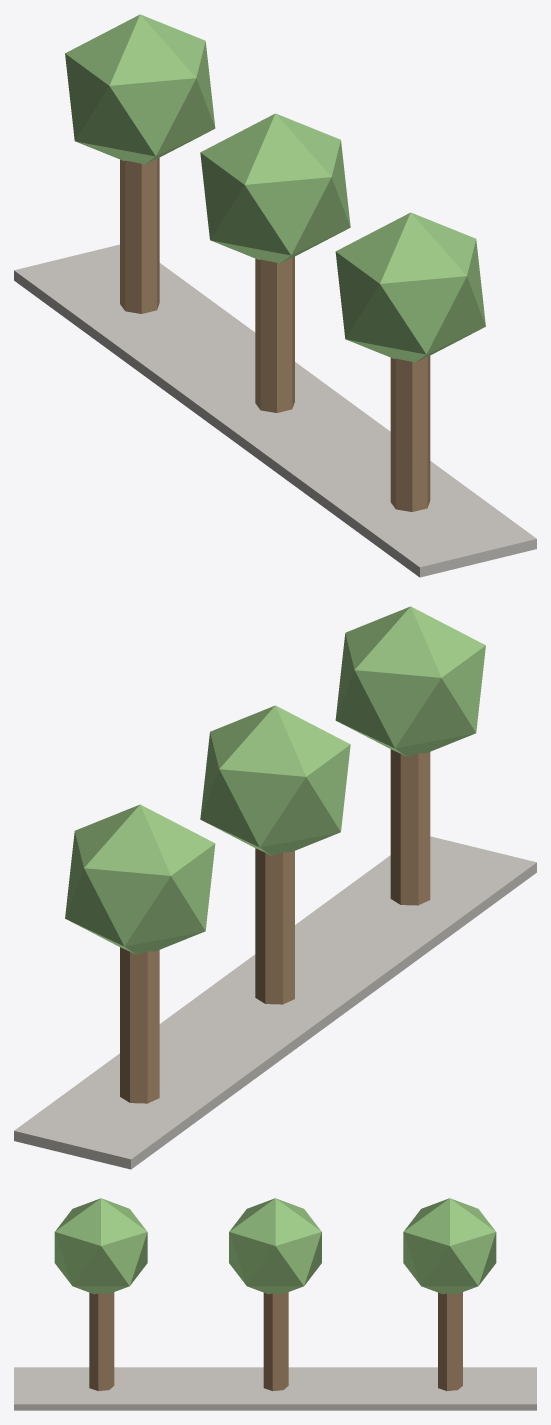
The model's file is treerow.glb.
3 views of the same model, one above another, from view 1: azimuth 30°, elevation 25°; view 2: azimuth 150°, elevation 25°; view 3: azimuth 270°, elevation 25° (orthographic). The views are drawn at different scales.
Parts seen in each view (by area): view 1: treerow; view 2: treerow; view 3: treerow.
Part boxes in pixels (<box>): treerow: <box>14,14,536,577</box>; treerow: <box>14,606,536,1169</box>; treerow: <box>14,1198,536,1410</box>.
Bounding box in the file's own units: 1.34 × 2.95 × 7.2.
